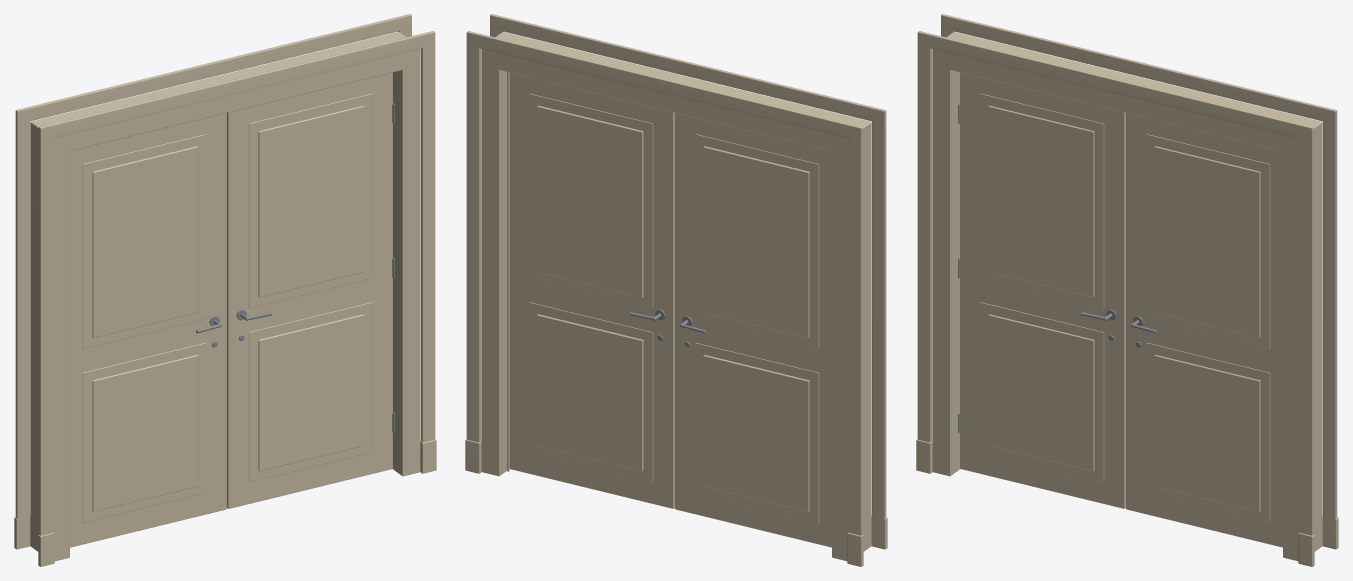
File: prop_door_double_ivory_t20.glb
3 views of the same model, side by side, from view 1: azimuth 30°, elevation 25°; view 2: azimuth 150°, elevation 25°; view 3: azimuth 330°, elevation 25° (orthographic).
Parts seen in each view (by area): view 1: LeafMesh2, LeafMesh, Frame; view 2: LeafMesh2, Frame, LeafMesh; view 3: LeafMesh, LeafMesh2, Frame.
Part boxes in pixels (x1=…): LeafMesh2: x1=227, y1=72, x2=394, y2=508; LeafMesh: x1=70, y1=113, x2=226, y2=547; Frame: x1=14, y1=14, x2=436, y2=566; LeafMesh2: x1=509, y1=72, x2=674, y2=508; Frame: x1=465, y1=14, x2=887, y2=566; LeafMesh: x1=675, y1=113, x2=831, y2=547; LeafMesh: x1=958, y1=72, x2=1125, y2=508; LeafMesh2: x1=1126, y1=113, x2=1282, y2=547; Frame: x1=916, y1=14, x2=1338, y2=566.
Size of what is drawn, in the model's own units: 2.15 by 2.27 by 0.248.
